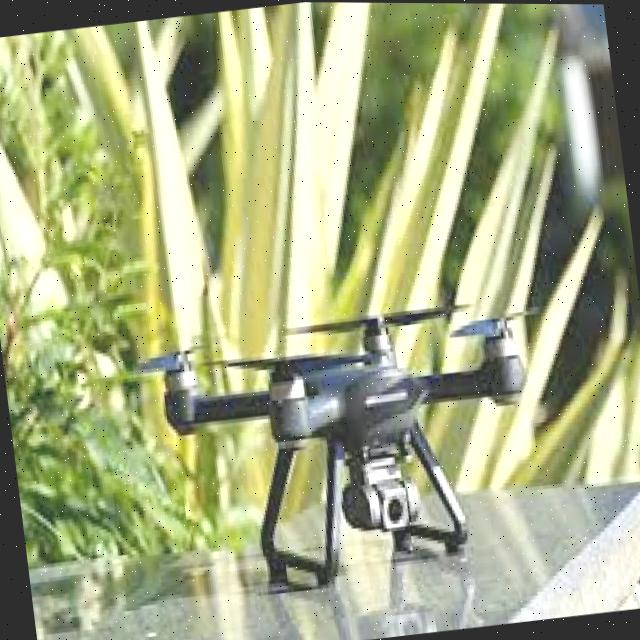drone: (115, 256, 580, 622)
